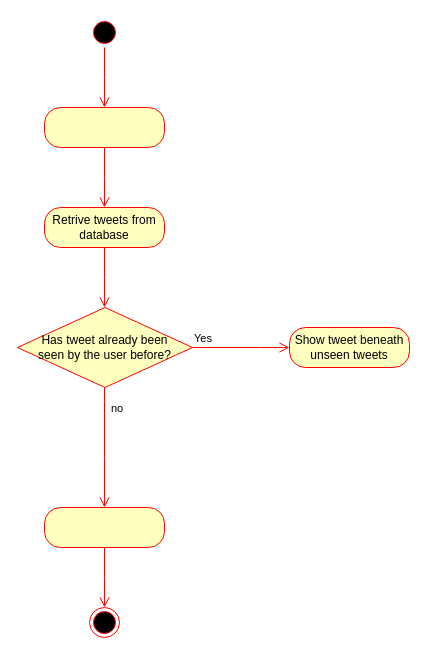
The diagram is 427 pixels wide and 655 high, and some of its shapes have lost their labels. The centre of each missing label's shape, as x and y in pixels:
Add tweet to the list of tweets shown on screen: point (104, 527)
When user loads website: point (104, 127)
